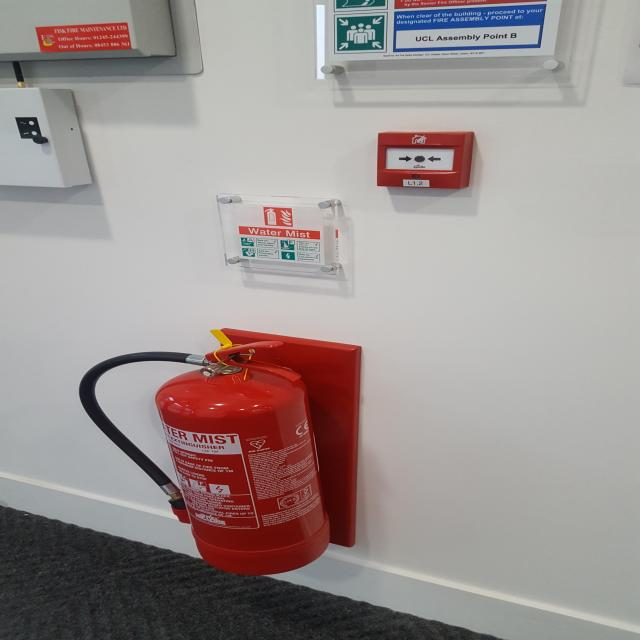fire_extinguisher: (74, 338, 336, 577)
